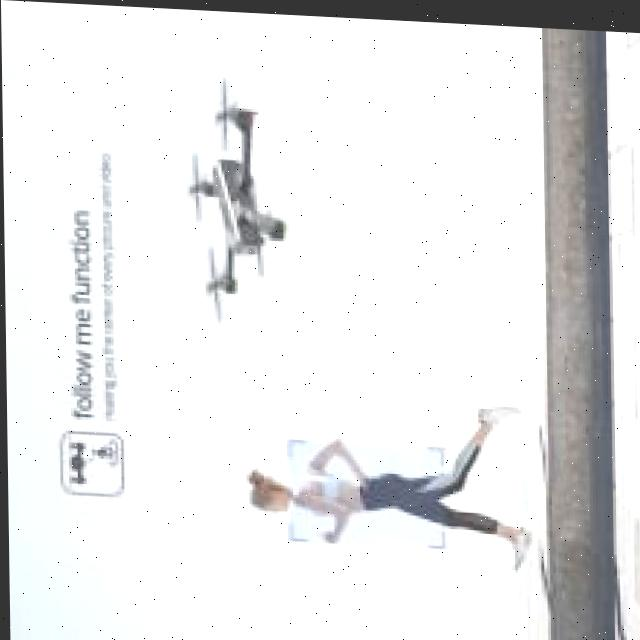drone: (166, 52, 297, 334)
